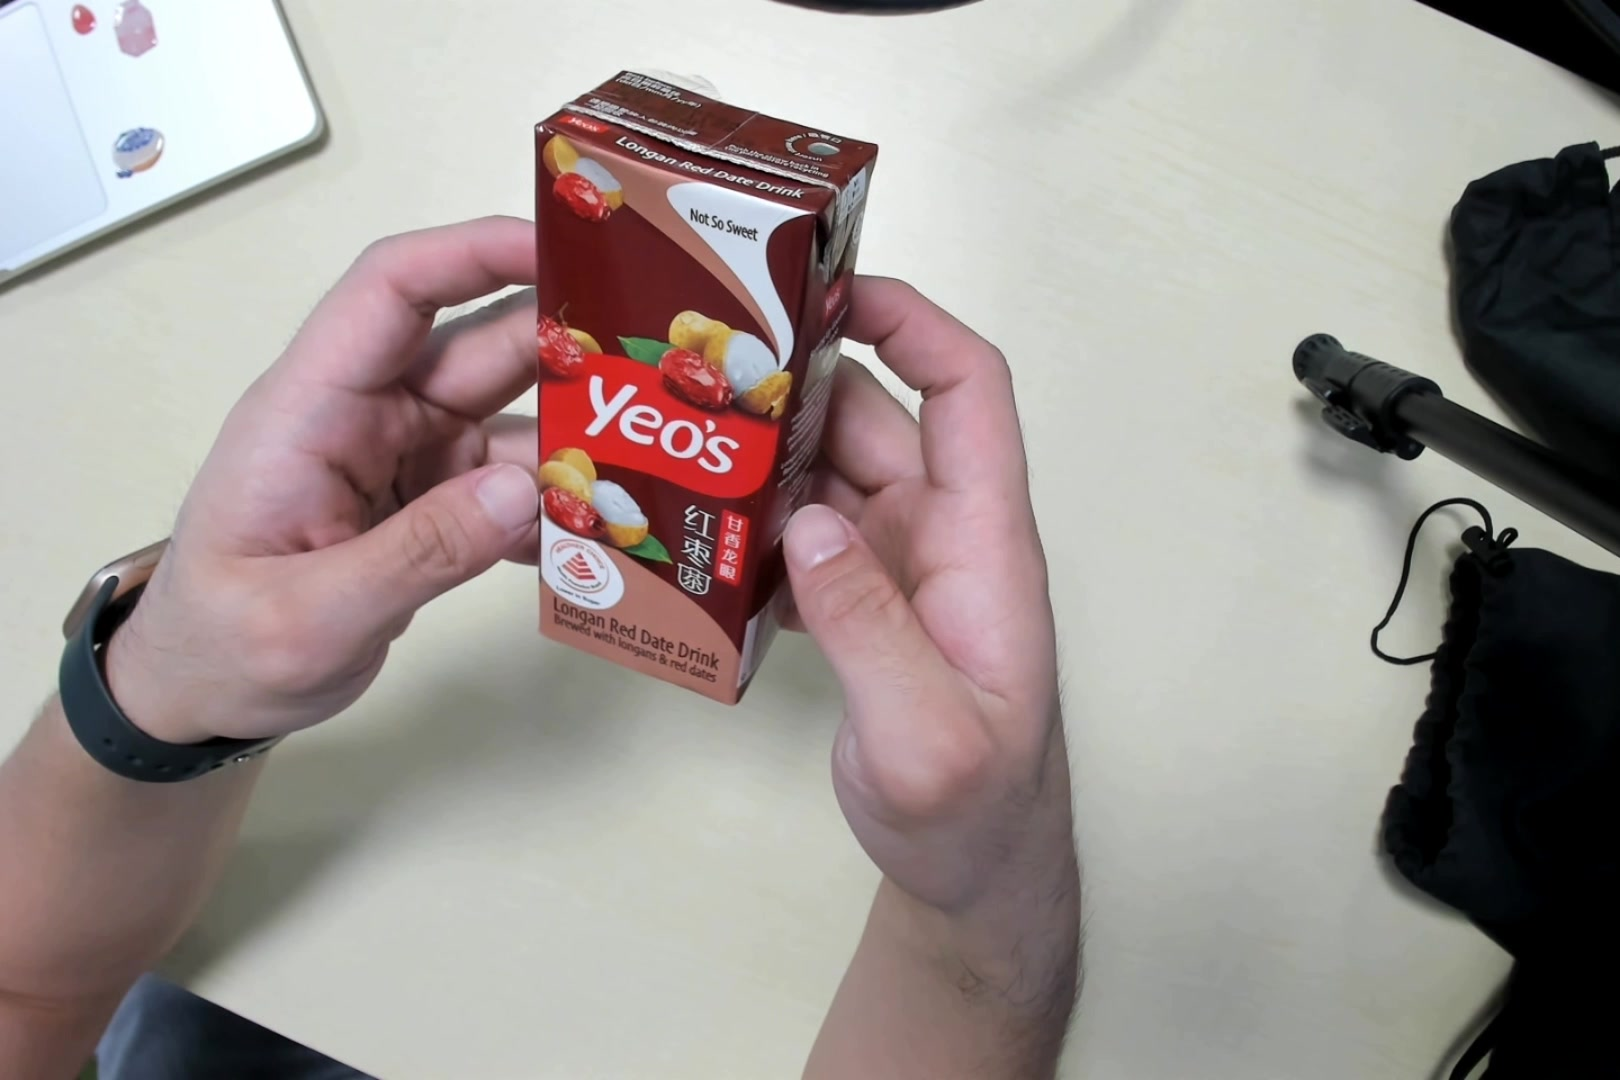TeaDrink_200-299g_Halal_Healthy: (532, 45, 876, 714)
